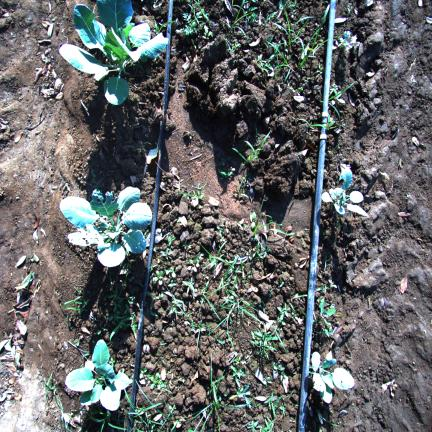crop: (59, 0, 169, 107), (59, 187, 152, 267), (65, 340, 132, 411), (322, 163, 368, 216), (312, 352, 355, 403)
